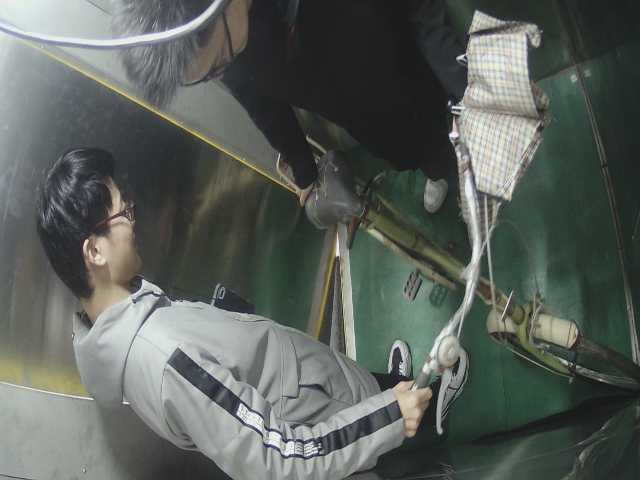bicycle: (273, 125, 621, 406)
person: (40, 142, 462, 461), (125, 1, 538, 239)
